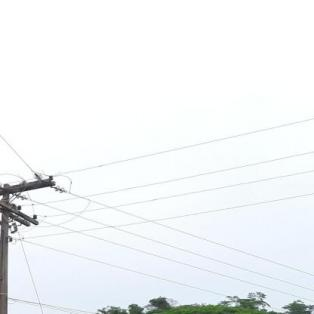Poste: (0, 179, 15, 314)
